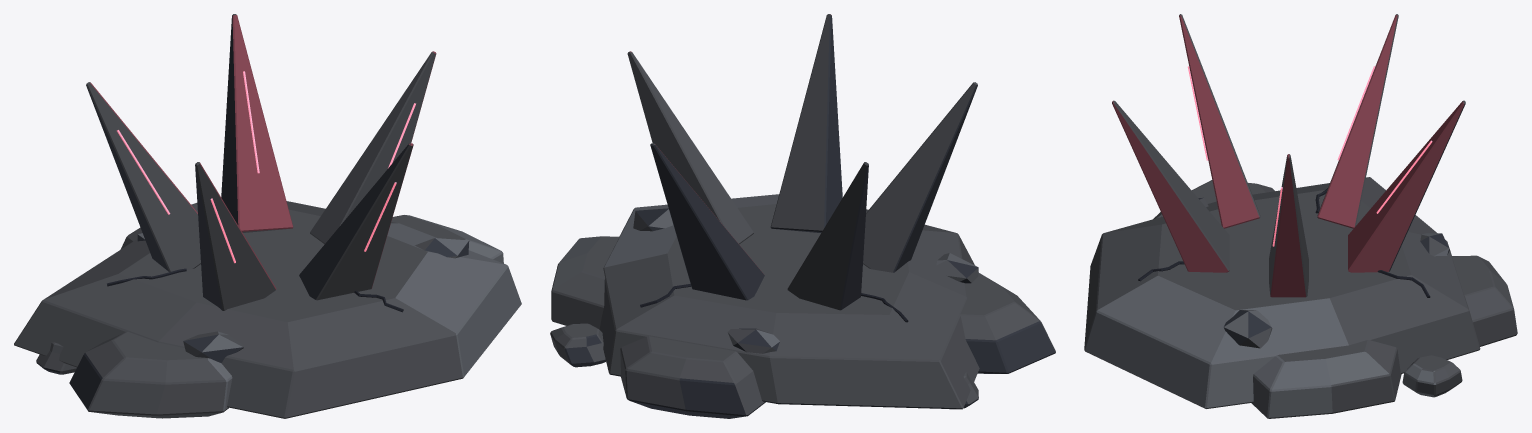
The model's file is BH_ORE_O15_Obsidiana_Ritual_V02.glb.
3 views of the same model, side by side, from view 1: azimuth 30°, elevation 25°; view 2: azimuth 150°, elevation 25°; view 3: azimuth 270°, elevation 25° (orthographic).
Visible parts, largest first — view 1: Bedrock | primary.003, Bedrock | shoulder 1.003, Ritual obsidian blade 2.003, Ritual obsidian blade 3.003, Ritual obsidian blade 5.003, Ritual obsidian blade 4.003, Ritual obsidian blade 1.003, Bedrock | shoulder 2.003, O15 | V02 embedded stone ledge.005, O15 | V02 embedded stone ledge.003, Loose chip 2.003; view 2: Bedrock | primary.003, Bedrock | shoulder 3.003, Ritual obsidian blade 5.003, Ritual obsidian blade 4.003, Ritual obsidian blade 2.003, Bedrock | shoulder 1.003, Ritual obsidian blade 3.003, Ritual obsidian blade 1.003, Bedrock | shoulder 2.003, Loose chip 1.003, O15 | V02 embedded stone ledge.004, O15 | V02 embedded stone ledge.005 (+1 smaller); view 3: Bedrock | primary.003, Bedrock | shoulder 2.003, Ritual obsidian blade 5.003, Ritual obsidian blade 2.003, Ritual obsidian blade 4.003, Ritual obsidian blade 3.003, Ritual obsidian blade 1.003, Bedrock | shoulder 3.003, Loose chip 1.003, O15 | V02 embedded stone ledge.003, Bedrock | shoulder 1.003, O15 | V02 embedded stone ledge.004.
Boxes of the visible parts, x1,y1,x2,y2 form: Bedrock | primary.003: [14, 201, 521, 418]; Bedrock | shoulder 1.003: [69, 331, 232, 418]; Ritual obsidian blade 2.003: [221, 14, 293, 232]; Ritual obsidian blade 3.003: [86, 82, 200, 271]; Ritual obsidian blade 5.003: [299, 143, 413, 300]; Ritual obsidian blade 4.003: [195, 162, 276, 310]; Ritual obsidian blade 1.003: [310, 51, 436, 244]; Bedrock | shoulder 2.003: [391, 215, 503, 263]; O15 | V02 embedded stone ledge.005: [183, 331, 243, 363]; O15 | V02 embedded stone ledge.003: [415, 238, 469, 258]; Loose chip 2.003: [36, 342, 76, 374]; Bedrock | primary.003: [599, 194, 979, 409]; Bedrock | shoulder 3.003: [620, 336, 765, 418]; Ritual obsidian blade 5.003: [770, 14, 842, 232]; Ritual obsidian blade 4.003: [863, 82, 977, 272]; Ritual obsidian blade 2.003: [650, 143, 764, 300]; Bedrock | shoulder 1.003: [960, 272, 1055, 373]; Ritual obsidian blade 3.003: [787, 162, 868, 310]; Ritual obsidian blade 1.003: [627, 51, 753, 244]; Bedrock | shoulder 2.003: [551, 236, 619, 329]; Loose chip 1.003: [550, 323, 605, 367]; O15 | V02 embedded stone ledge.004: [727, 328, 779, 353]; O15 | V02 embedded stone ledge.005: [936, 253, 978, 283]; Bedrock | primary.003: [1084, 177, 1480, 408]; Bedrock | shoulder 2.003: [1251, 340, 1401, 418]; Ritual obsidian blade 5.003: [1112, 100, 1229, 272]; Ritual obsidian blade 2.003: [1348, 100, 1465, 272]; Ritual obsidian blade 4.003: [1179, 14, 1260, 228]; Ritual obsidian blade 3.003: [1317, 14, 1398, 228]; Ritual obsidian blade 1.003: [1269, 154, 1308, 297]; Bedrock | shoulder 3.003: [1451, 255, 1517, 346]; Loose chip 1.003: [1402, 355, 1462, 397]; O15 | V02 embedded stone ledge.003: [1223, 310, 1272, 348]; Bedrock | shoulder 1.003: [1153, 180, 1274, 219]; O15 | V02 embedded stone ledge.004: [1420, 233, 1449, 256].
Bounding box in the file's own units: 3.03 × 1.63 × 2.57.
